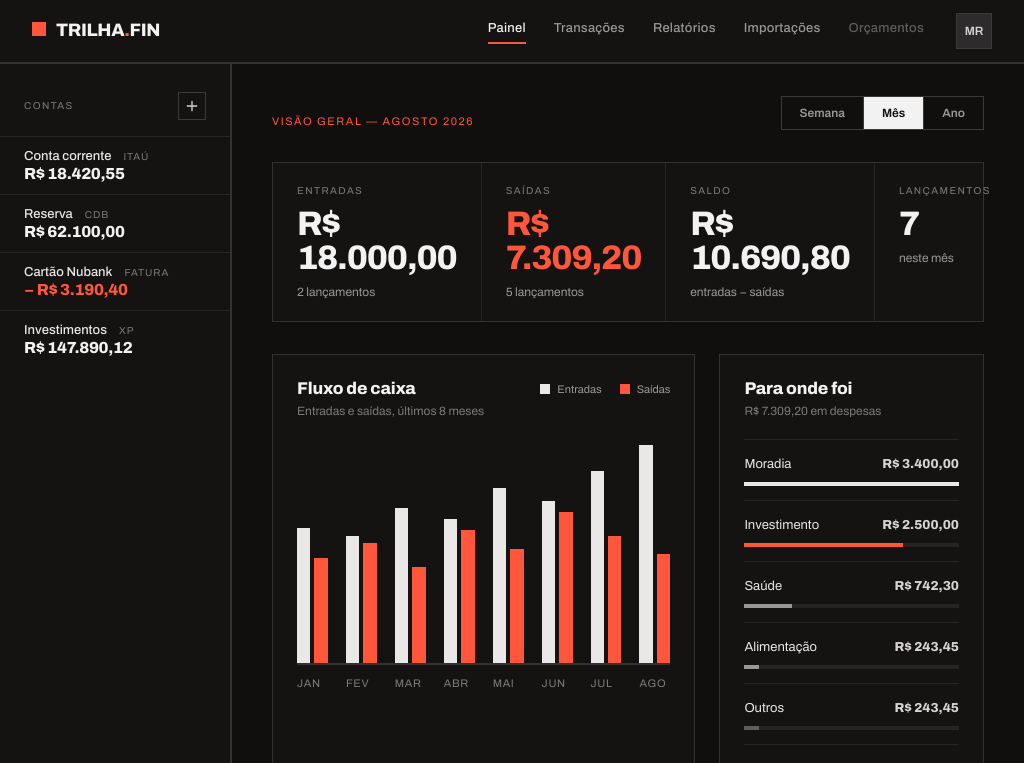
ProfileModal › salva e atualiza as iniciais do avatar
Click the button with aria-label "menu do usuário" at (974, 31), box [956,13,992,49]
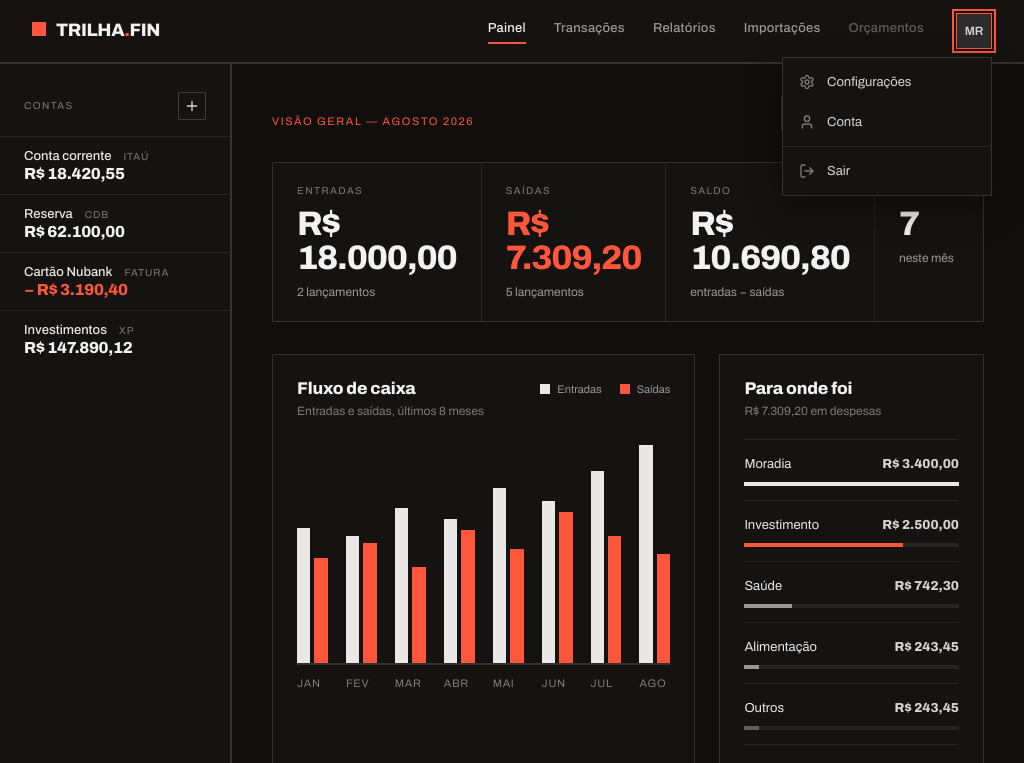
Click the menu item "Conta" at (887, 122), box [783,102,991,142]
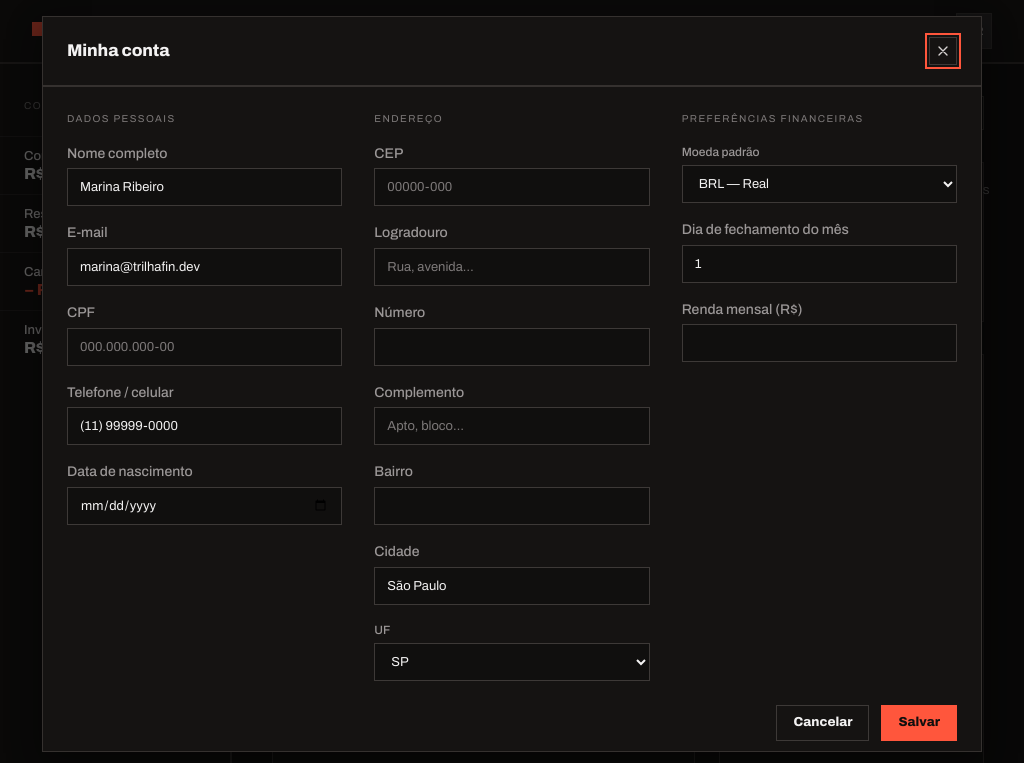
Replace the text in the field labelled "Nome completo" with "Ana Lima" at (205, 187), box [67,168,342,206]
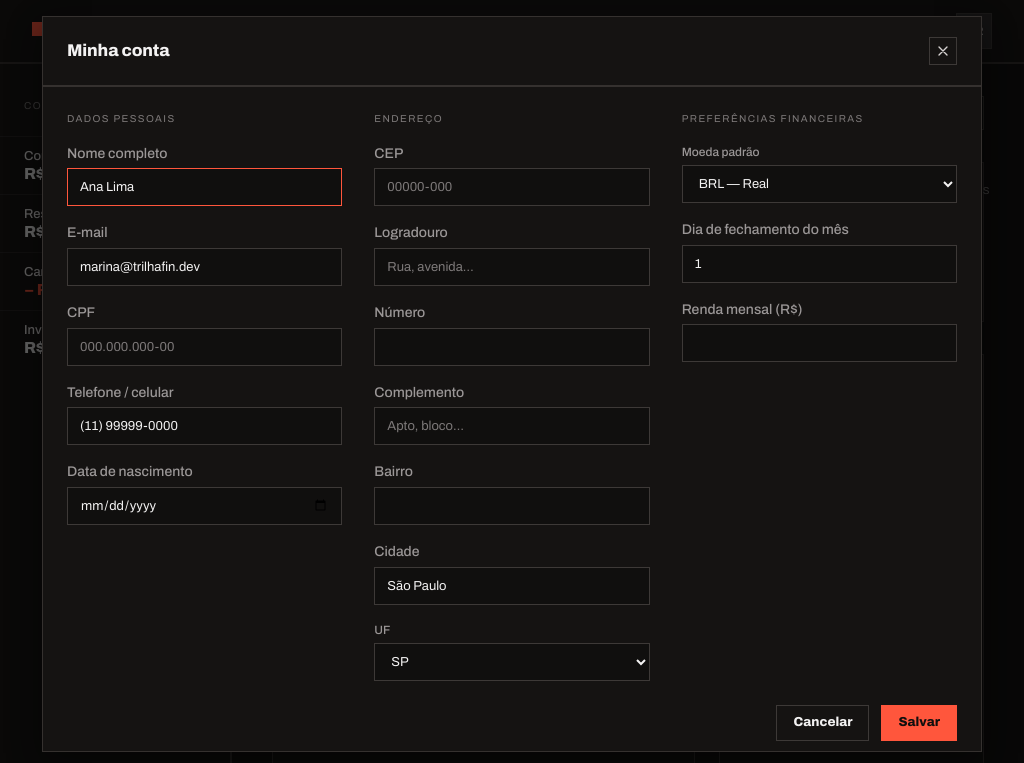
Click the button "Salvar" at (919, 723), box [882,705,957,741]
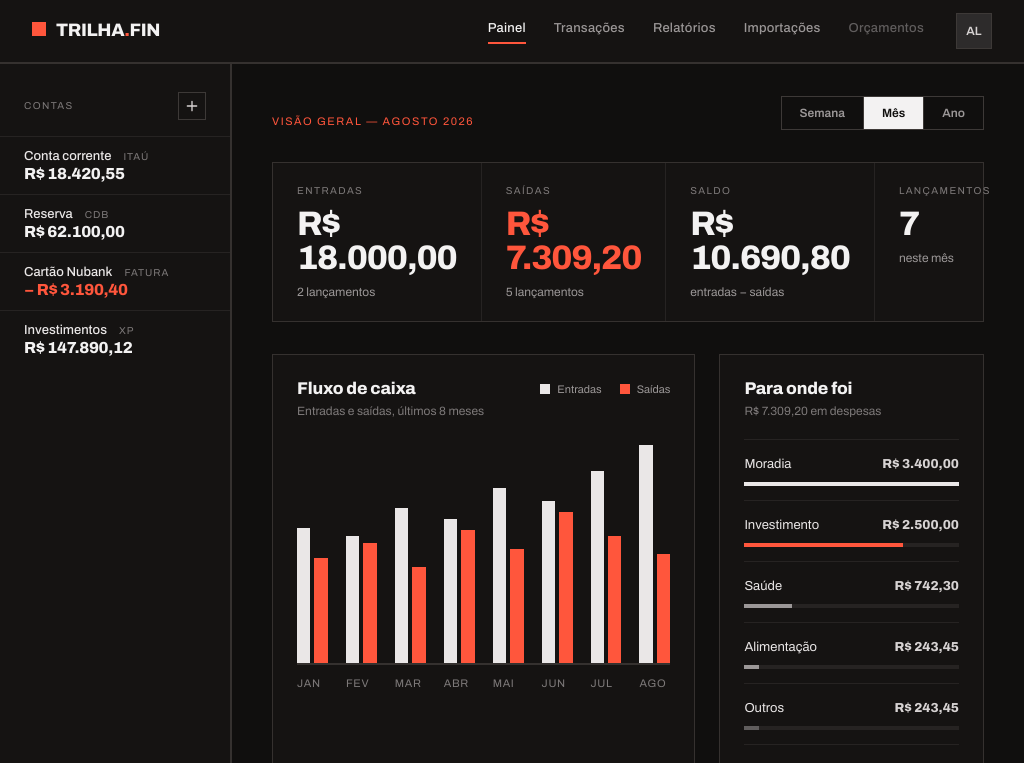
Check: the dialog is gone
Check: the button with aria-label "menu do usuário" reads "AL", box [956,13,992,49]
